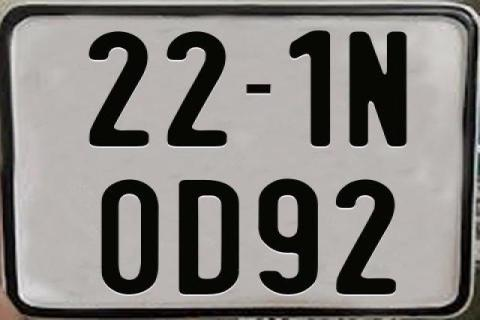0: (88, 29, 152, 148), (336, 177, 399, 297), (165, 30, 230, 146), (101, 178, 161, 298), (258, 176, 318, 296), (288, 29, 330, 149)
D: (176, 178, 241, 296)
N: (346, 31, 404, 147)
